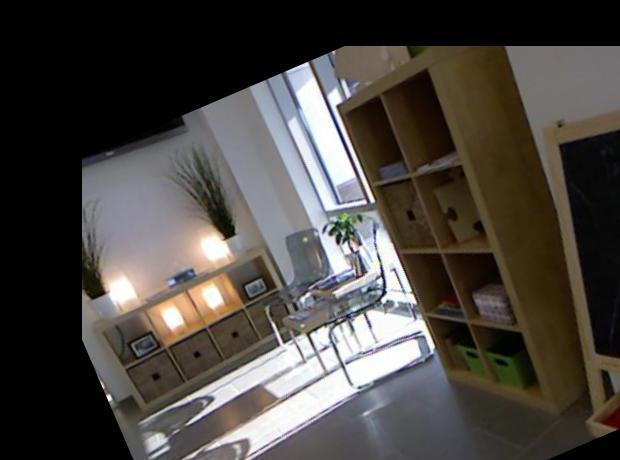Matera: (26, 180, 141, 330), (155, 127, 261, 271)
